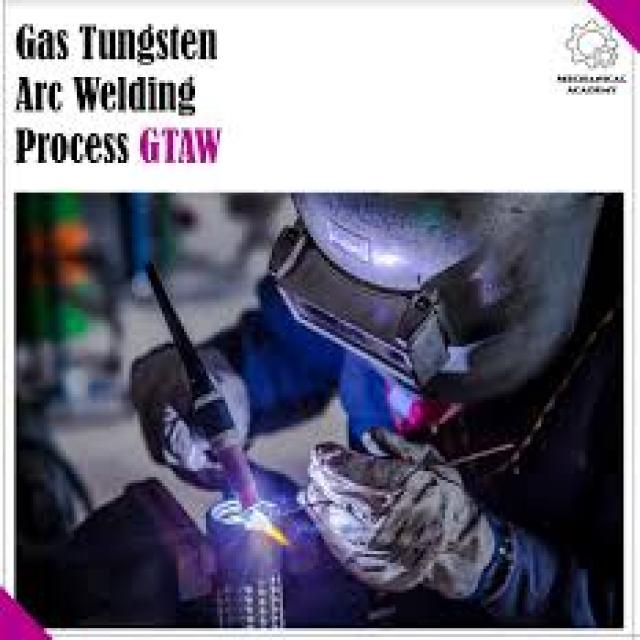welding: (240, 511, 272, 533)
